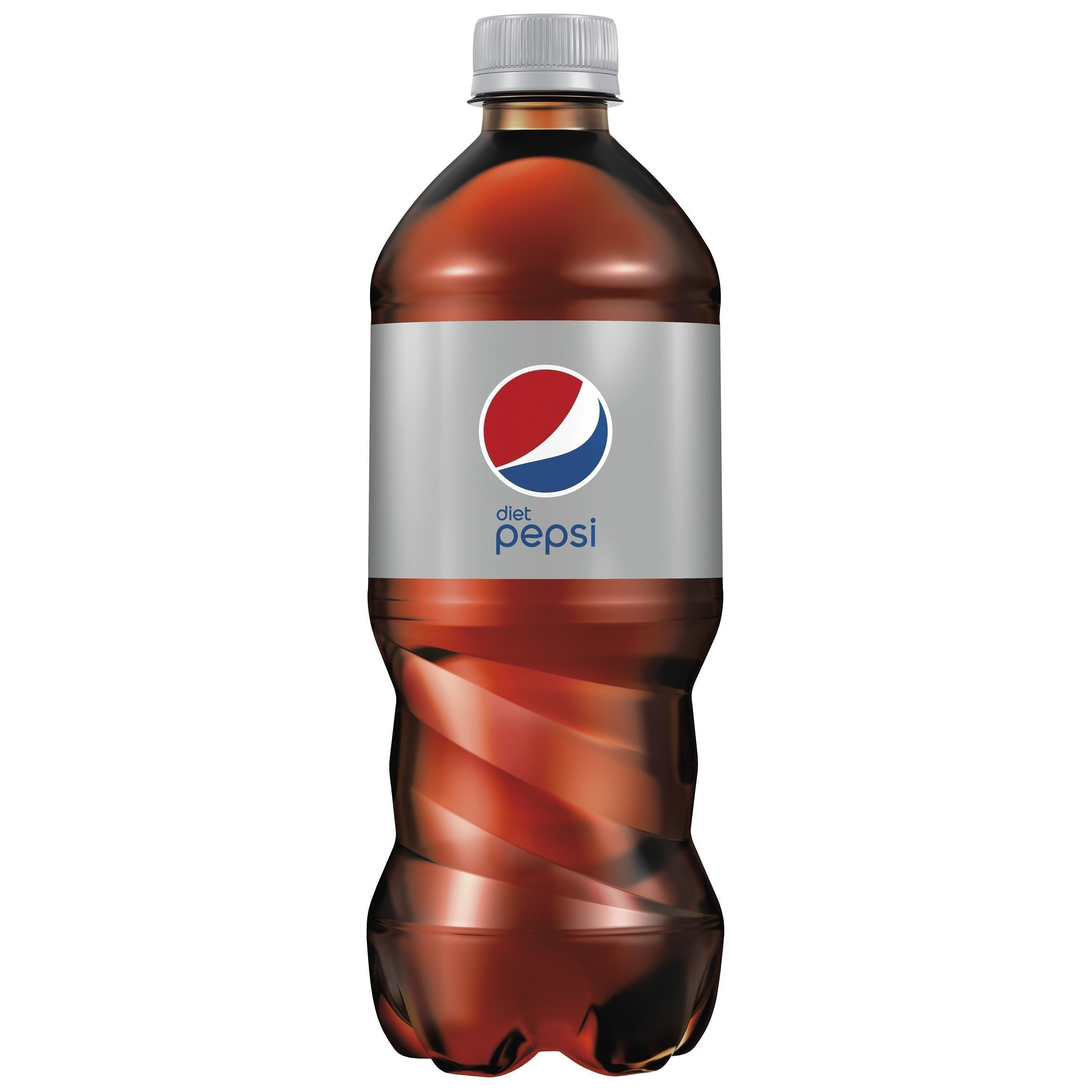bottle-plastic: (355, 0, 743, 1091)
